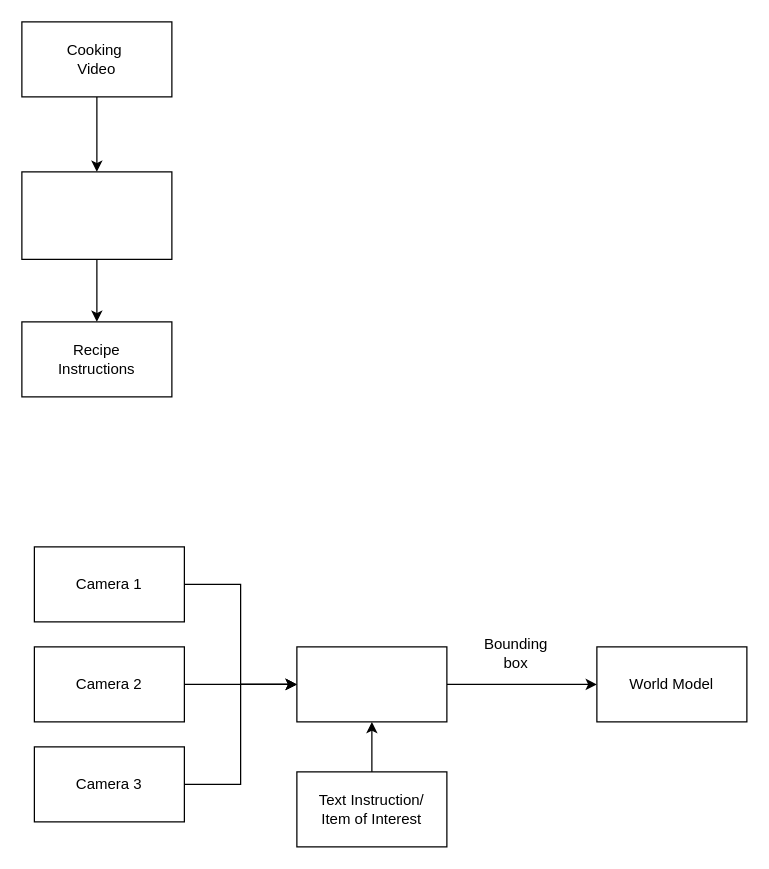
Image size: 769x869. Some labels were removed from this diagram. The shapes that lost their labels are listed below. From the top down, each one's centre as x and y in pixels, then its label:
the point at 96,215: Video to Recipe
the point at 371,684: dwani.ai Vision API
